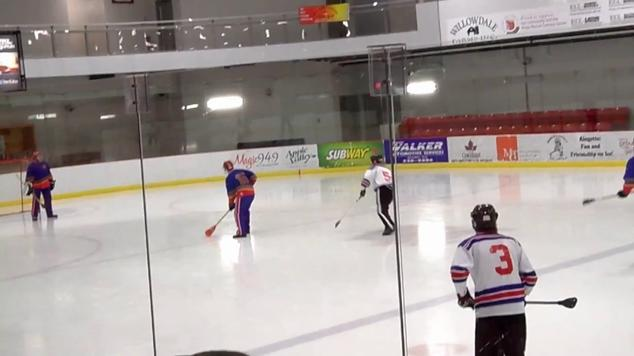stay: (24, 144, 56, 231), (224, 145, 251, 248)
walk: (360, 156, 396, 234), (24, 144, 56, 231)
